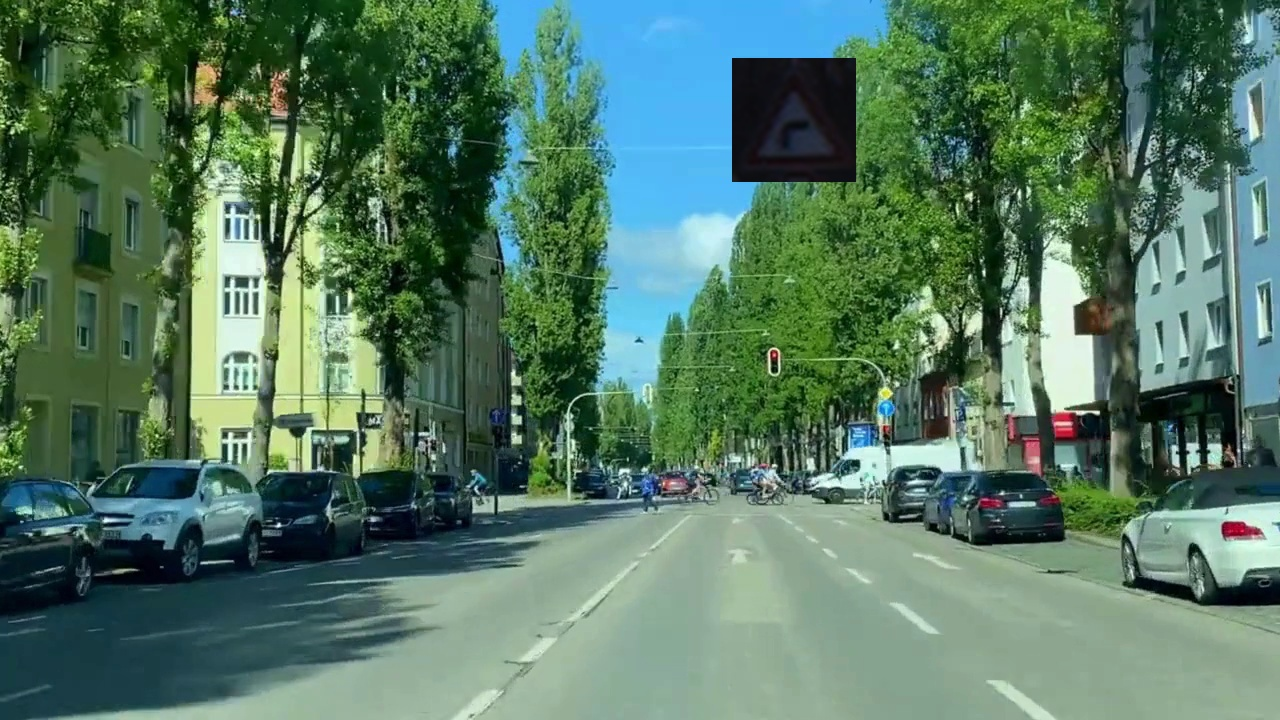Curve right: (732, 58, 856, 182)
